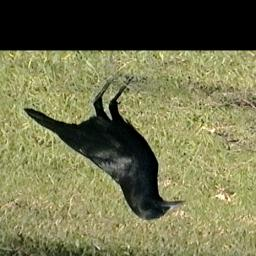Crow: (23, 73, 186, 221)
